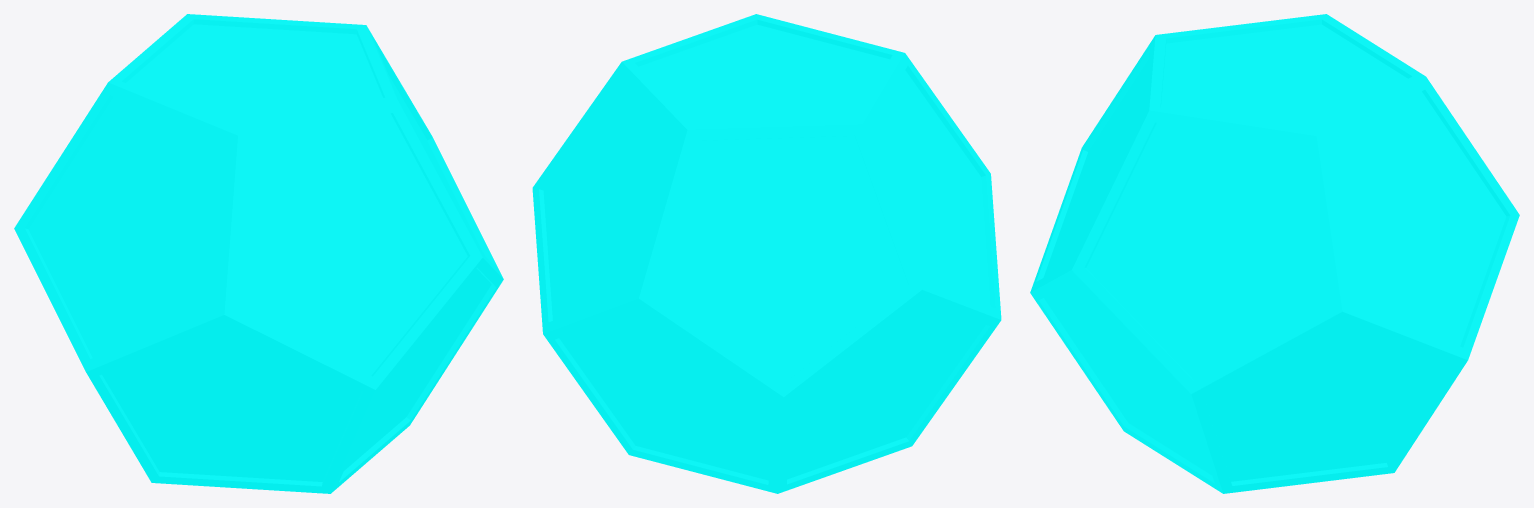
File: SFI0210012.fbx
3 views of the same model, side by side, from view 1: azimuth 30°, elevation 25°; view 2: azimuth 150°, elevation 25°; view 3: azimuth 270°, elevation 25° (orthographic). The views are drawn at different scales.
Visible parts, largest first — view 1: smSFI0210012; view 2: smSFI0210012; view 3: smSFI0210012.
Boxes of the visible parts, <box> form: smSFI0210012: <box>14,14,503,493</box>; smSFI0210012: <box>532,14,1001,493</box>; smSFI0210012: <box>1030,14,1519,493</box>.
Size of the model in its own units: 134 by 113 by 139.
